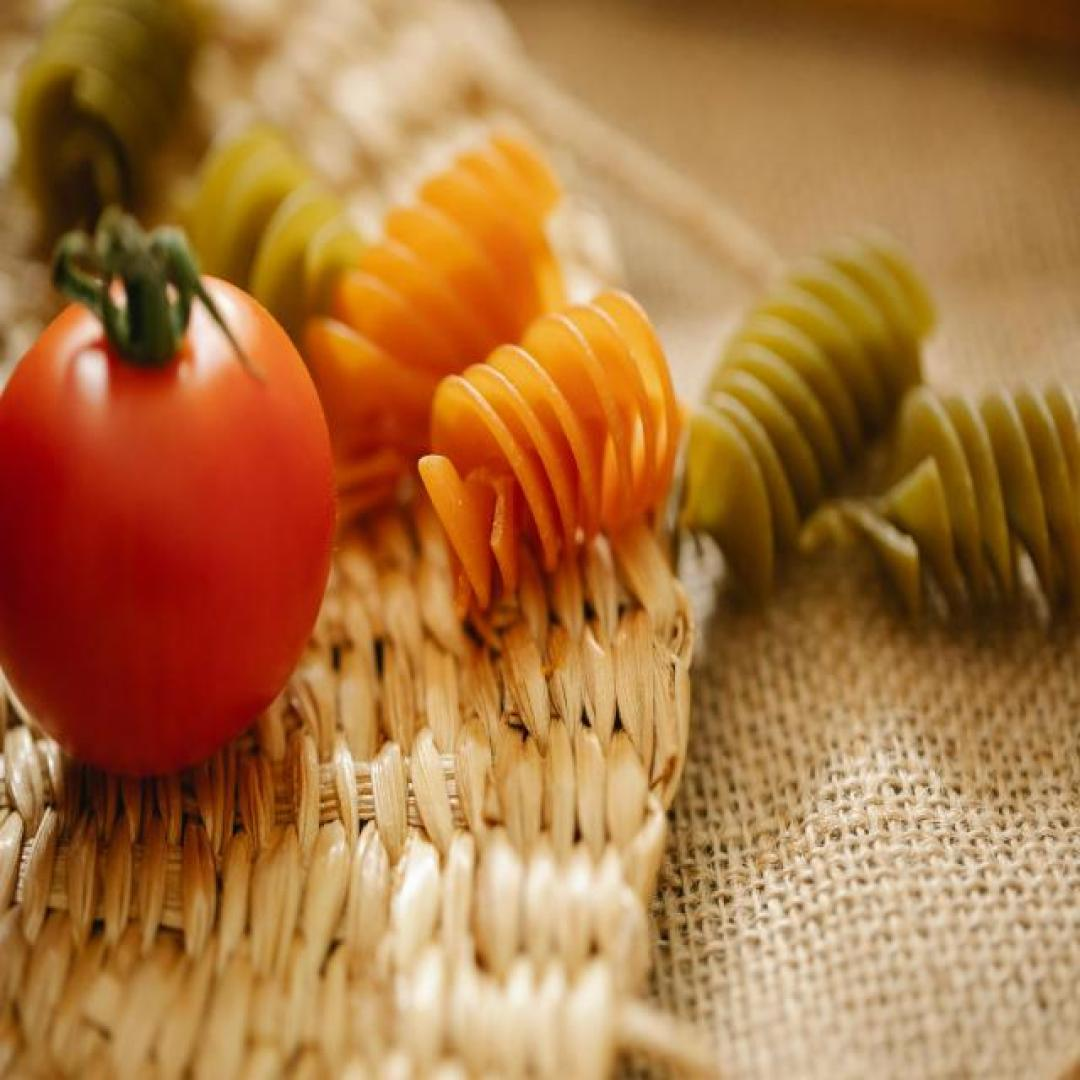matang: (5, 270, 336, 780)
